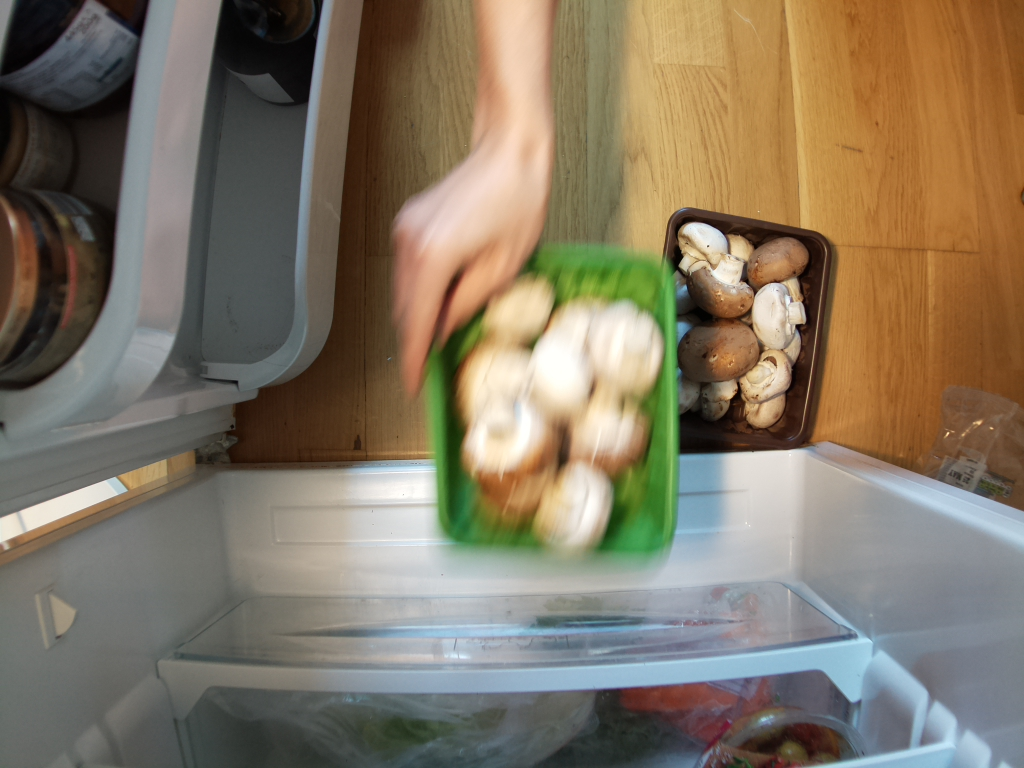mushrooms: (436, 239, 678, 560), (659, 195, 836, 463)
